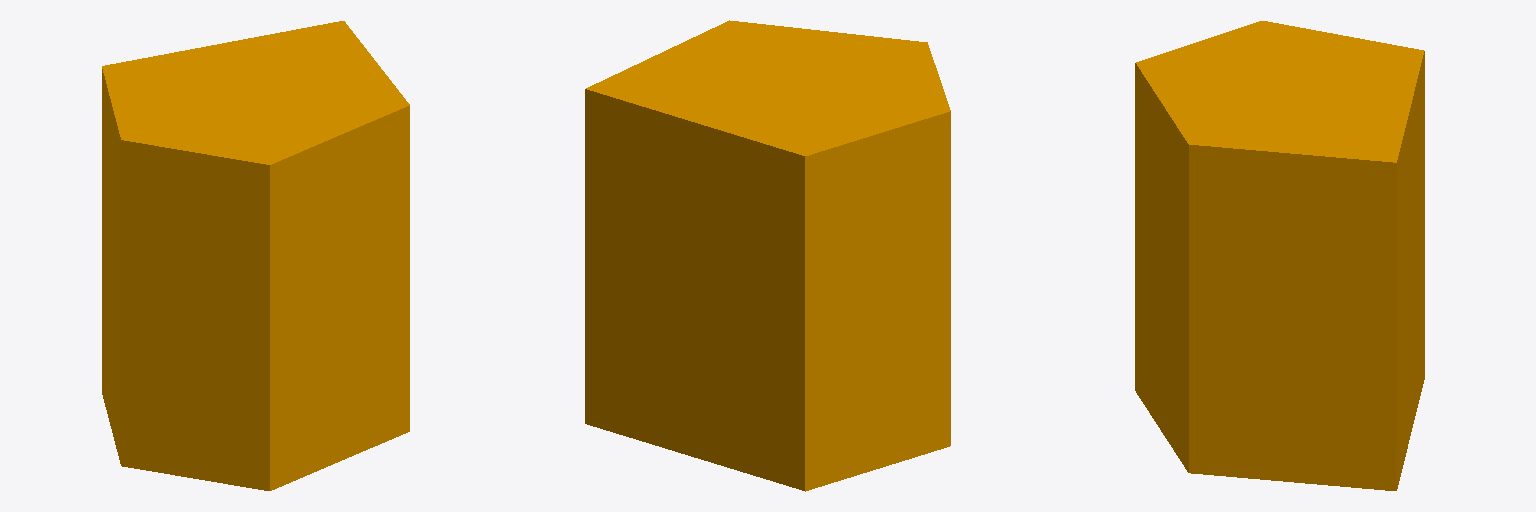
The robot description file, URDF, robot "object":
<?xml version="1.0"?>
<robot name="object">
  <link name="object">
    <visual>
      <origin xyz="0 0 0"/>
      <geometry>
        <mesh filename="meshes/generated/col_122.obj" scale="0.03 0.03 0.03"/>
      </geometry>
    </visual>
    <collision>
      <origin xyz="0 0 0"/>
      <geometry>
        <mesh filename="meshes/generated/col_122.obj" scale="0.03 0.03 0.03"/>
      </geometry>
    </collision>
    <inertial>
      <density value="1000.0"/>
    </inertial>
  </link>
</robot>

--- What the picture shows (computed from the rendered views, not written in the file) ---
Views: 3 orthographic renders of the robot side by side, from view 1: azimuth 30°, elevation 25°; view 2: azimuth 150°, elevation 25°; view 3: azimuth 270°, elevation 25°.
Robot: object — 1 links, 0 joints (none); root link object; default pose: all joints at 0.
Links seen in each view (by area): view 1: object; view 2: object; view 3: object.
Link boxes in pixels (<box>): object: <box>102,21,409,490</box>; object: <box>585,20,950,491</box>; object: <box>1135,21,1424,490</box>.
Size in the robot's own frame: 0.0557 by 0.0478 by 0.06 metres.
1 mesh visuals loaded from 1 distinct referenced files (1 OBJ).
